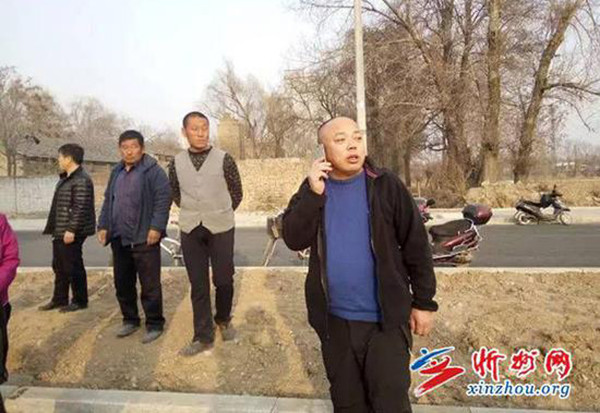handsup: (278, 112, 453, 410)
other: (167, 107, 255, 357), (93, 120, 181, 347)
